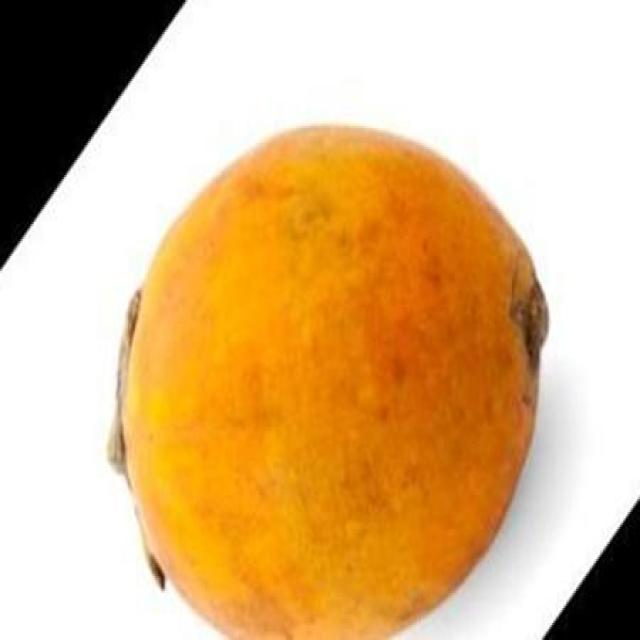good: (118, 124, 550, 638)
